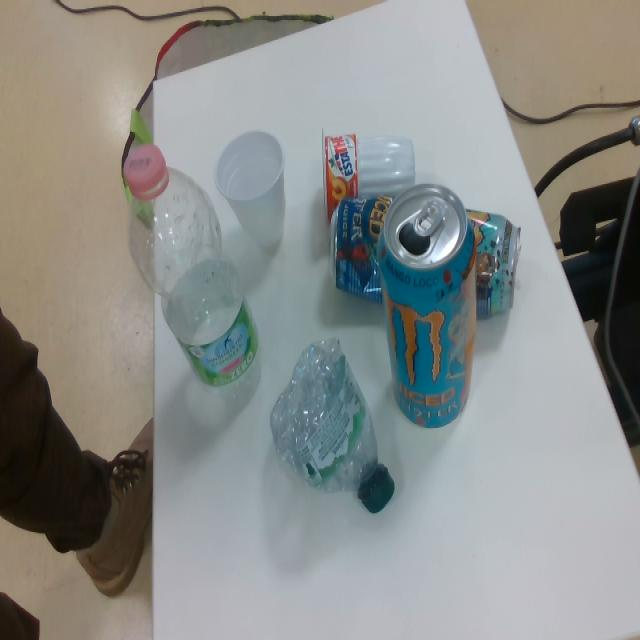aluminum: (378, 183, 478, 430), (325, 196, 525, 318)
plastic: (123, 142, 265, 396), (268, 336, 398, 518), (214, 126, 289, 254), (315, 124, 418, 215)
